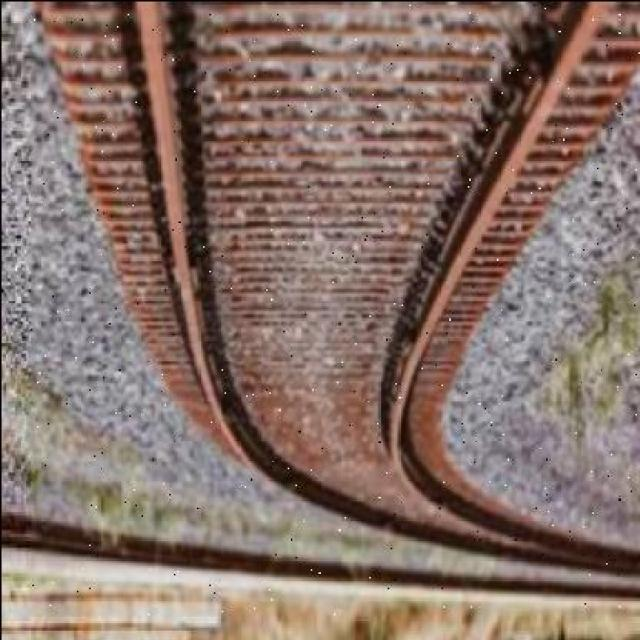rail: (30, 4, 640, 615)
